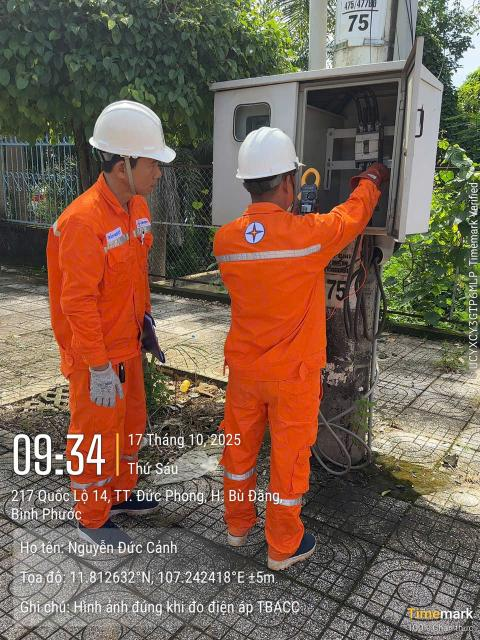gloves: (347, 154, 396, 191)
helmet: (87, 96, 183, 168), (226, 121, 318, 182)
shoes: (66, 512, 170, 566), (266, 529, 319, 572), (96, 488, 168, 519)
